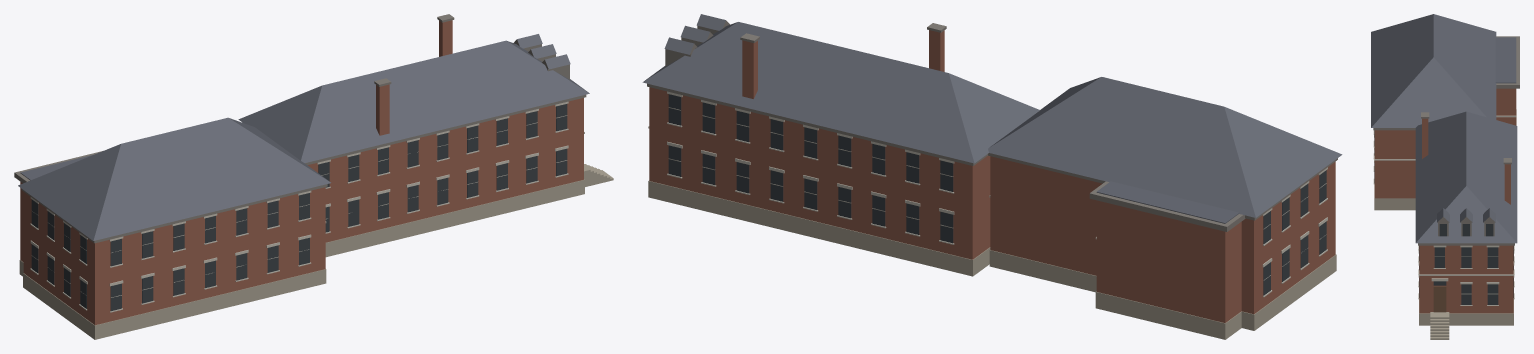
The model's file is marshall_field_jr_house_1919_prairie__draft_1904.glb.
The picture shows the model from 3 angles, left to right: view 1: azimuth 30°, elevation 25°; view 2: azimuth 150°, elevation 25°; view 3: azimuth 270°, elevation 25°; orthographic projection. The views are drawn at different scales.
Parts seen in each view (by area): view 1: marshall_field_jr_house_1919_prairie__draft_1904; view 2: marshall_field_jr_house_1919_prairie__draft_1904; view 3: marshall_field_jr_house_1919_prairie__draft_1904.
Part boxes in pixels (<box>): marshall_field_jr_house_1919_prairie__draft_1904: <box>14,14,613,339</box>; marshall_field_jr_house_1919_prairie__draft_1904: <box>642,14,1342,339</box>; marshall_field_jr_house_1919_prairie__draft_1904: <box>1371,14,1519,339</box>.
Size of the model in its own units: 50.65 by 13.77 by 14.2.
